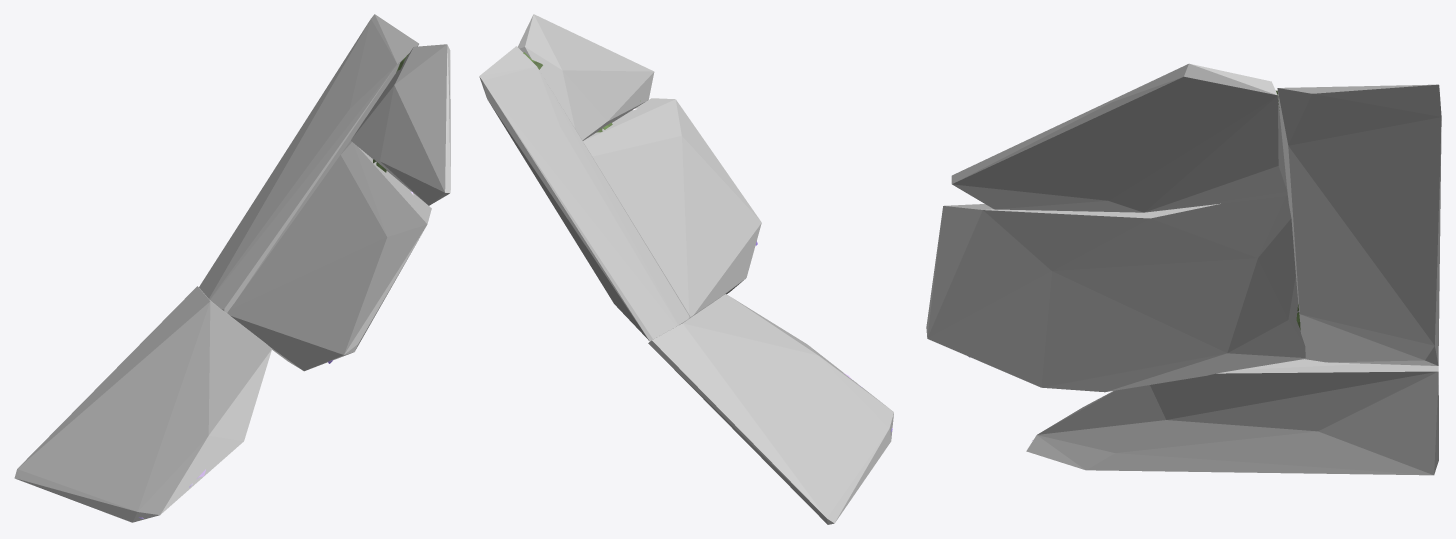
File: SM_Env_Vines_Preset_Roof_Concave_05.fbx
3 views of the same model, side by side, from view 1: azimuth 30°, elevation 25°; view 2: azimuth 150°, elevation 25°; view 3: azimuth 270°, elevation 25° (orthographic). The views are drawn at different scales.
Visible parts, largest first — view 1: SM_Env_Vines_Preset_Roof_Concave_05_ConvexHulls; view 2: SM_Env_Vines_Preset_Roof_Concave_05_ConvexHulls; view 3: SM_Env_Vines_Preset_Roof_Concave_05_ConvexHulls.
Part boxes in pixels (x1,y1,x2,y2): SM_Env_Vines_Preset_Roof_Concave_05_ConvexHulls: (14, 14, 450, 522); SM_Env_Vines_Preset_Roof_Concave_05_ConvexHulls: (479, 14, 893, 524); SM_Env_Vines_Preset_Roof_Concave_05_ConvexHulls: (926, 63, 1441, 475).
Size of the model in its own units: 209 by 128 by 208.
Materials: 3 (2 with a texture image).
